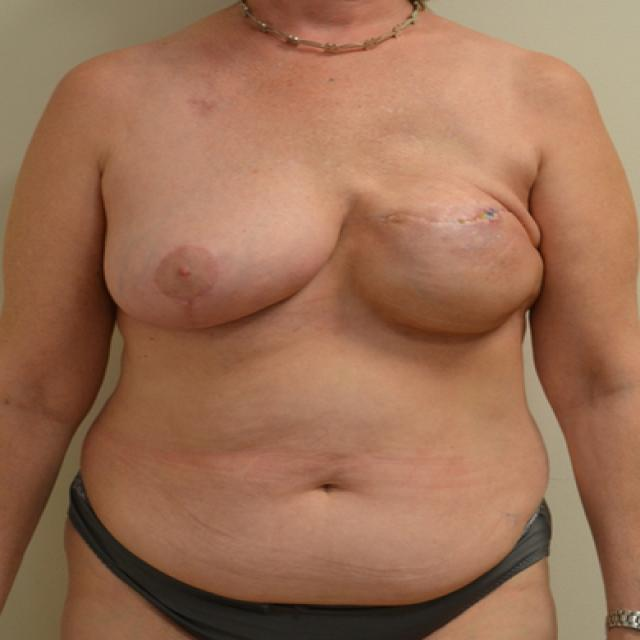Seno herido: (97, 158, 350, 350), (354, 158, 551, 348)
